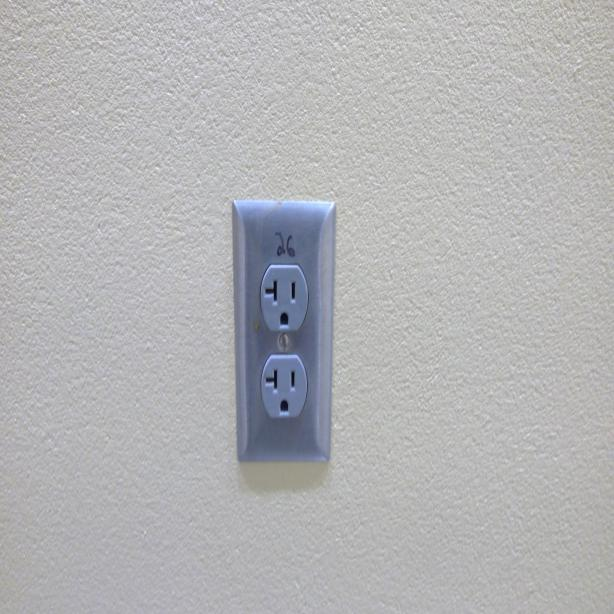typeb: (259, 269, 308, 335), (264, 359, 305, 422)
